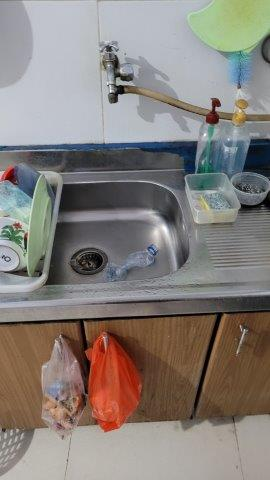botolplastik: (104, 244, 162, 279)
plastik: (92, 337, 142, 433), (41, 339, 83, 439)
